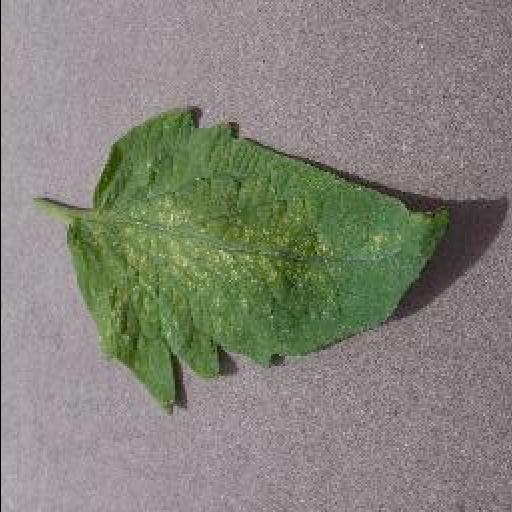disease_tomato: (60, 102, 452, 416)
